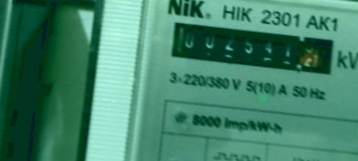0: (179, 27, 195, 49), (200, 28, 215, 50)
1: (279, 38, 292, 59)
2: (220, 31, 234, 52)
4: (260, 35, 274, 57)
5: (239, 32, 253, 56)
6: (300, 53, 312, 69)
screen: (157, 10, 344, 85)
